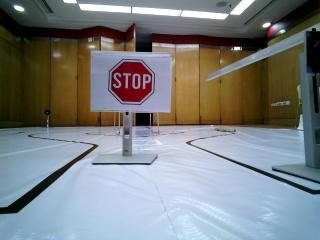stop: (99, 53, 164, 108)
